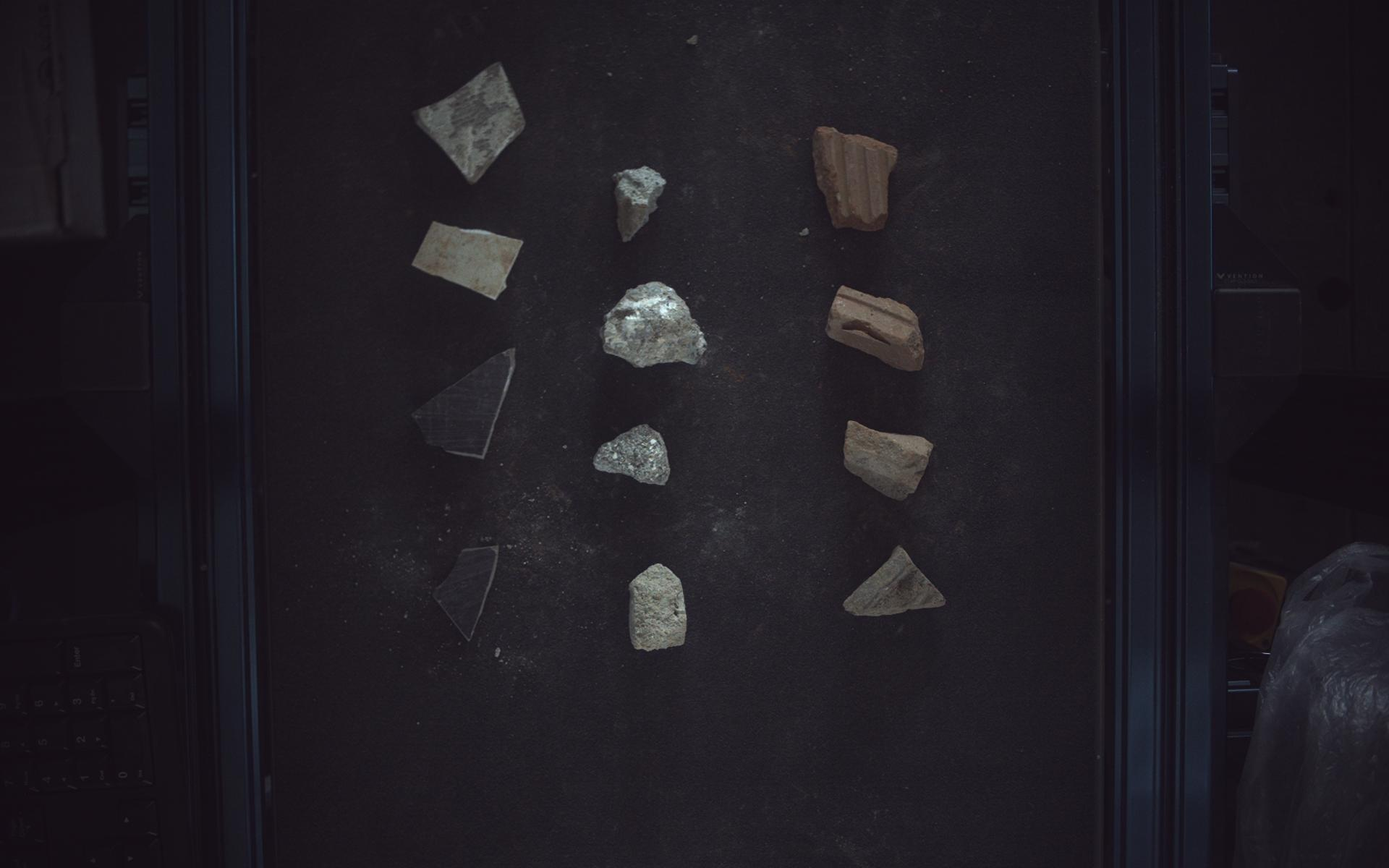brick: (814, 126, 899, 231), (828, 285, 926, 371), (845, 421, 935, 501), (845, 547, 947, 617)
concrete: (601, 281, 708, 367), (630, 564, 688, 652), (594, 425, 671, 486), (613, 166, 667, 241)
tile: (414, 61, 525, 182), (412, 348, 516, 459), (412, 221, 523, 299), (433, 546, 499, 642)
